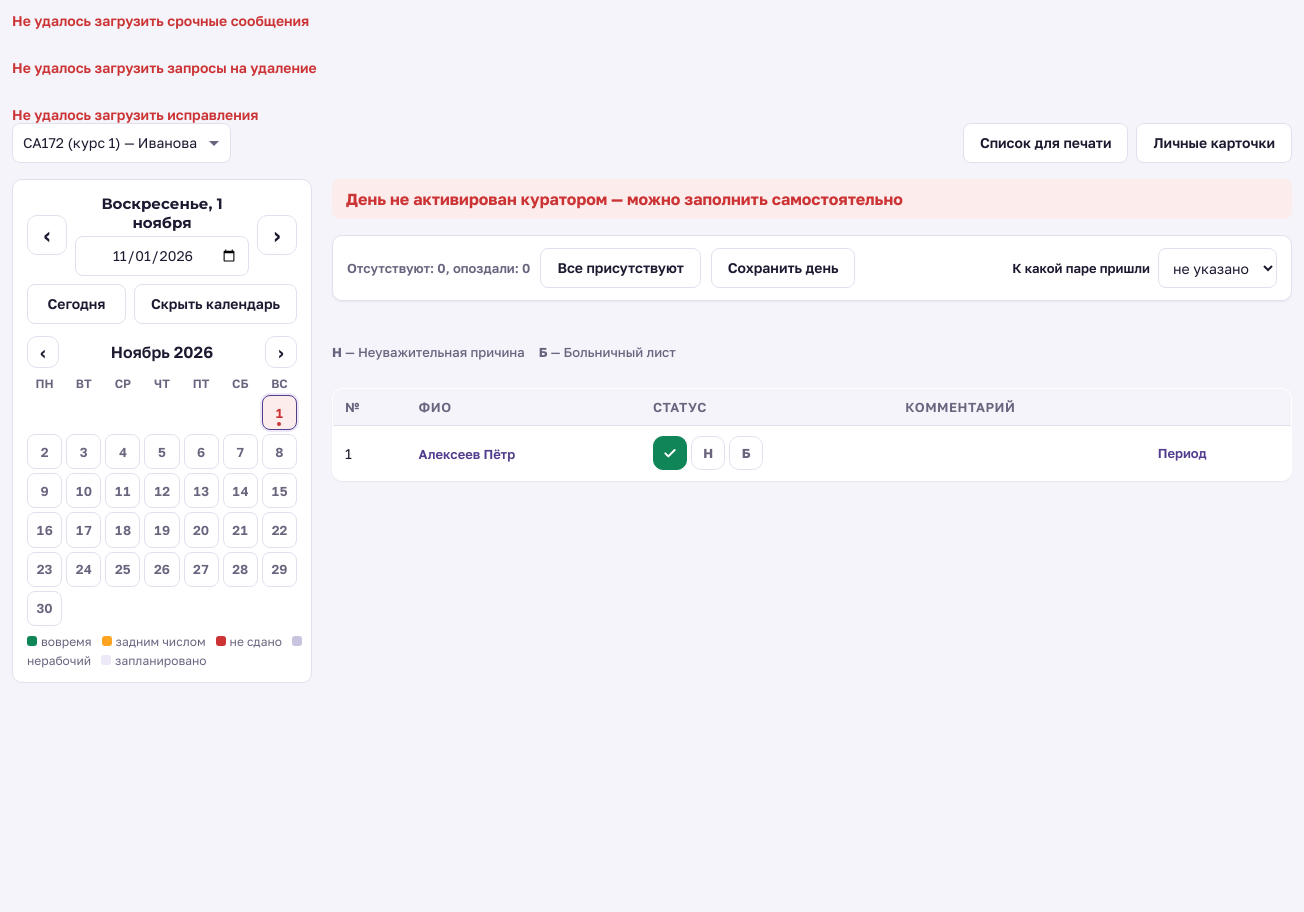
Test: GroupJournalTab — журнал администрации › сохранение дня уходит в тот же эндпоинт, ошибка сервера показывается
This screenshot has width=1304, height=912.
Check: the link "Алексеев Пётр" is shown, box left=415, top=444, right=519, bottom=464
Click the button "Н": (708, 453) left=691, top=436, right=725, bottom=470
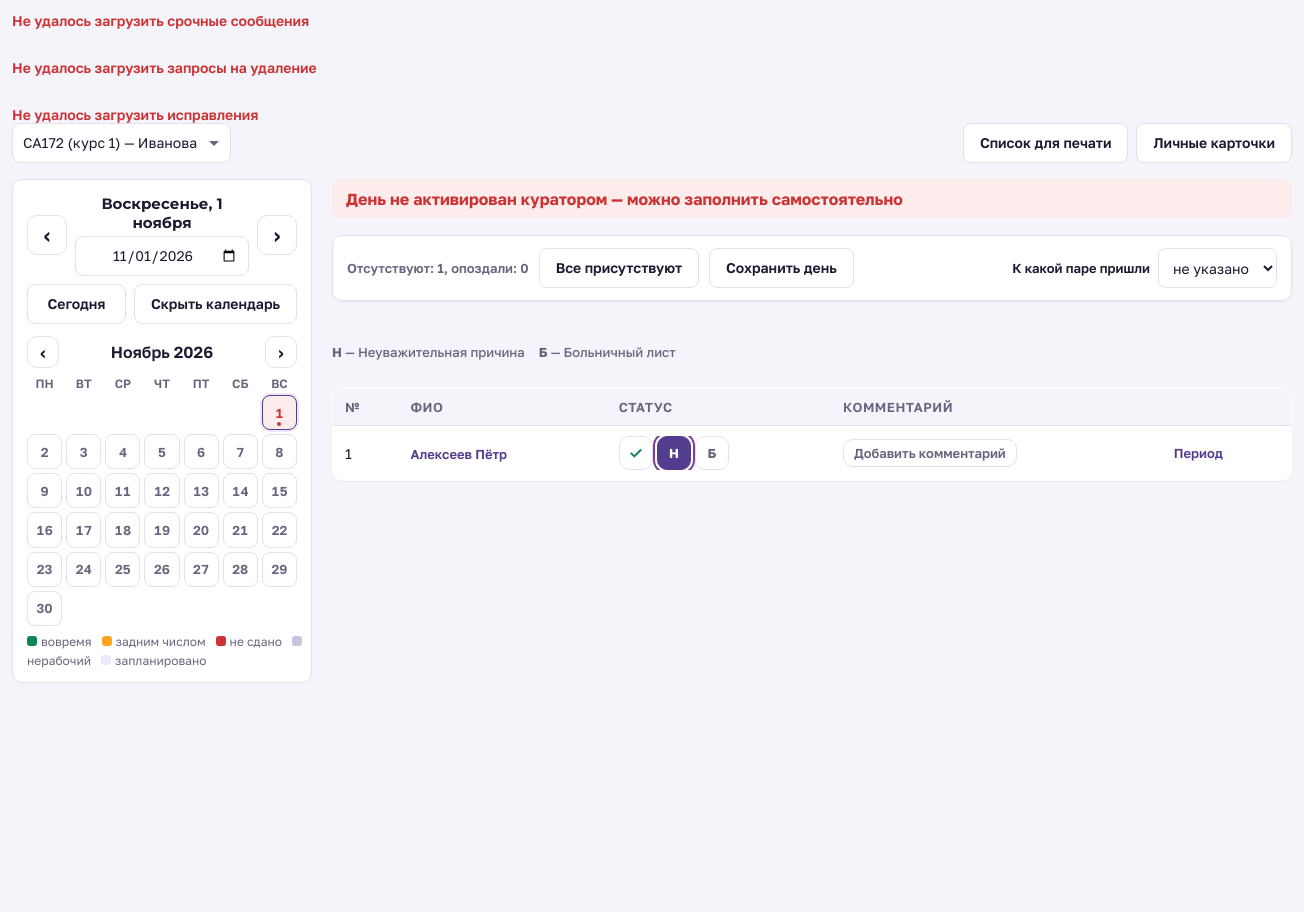
Click the button "Сохранить день": (781, 268) left=709, top=248, right=854, bottom=288
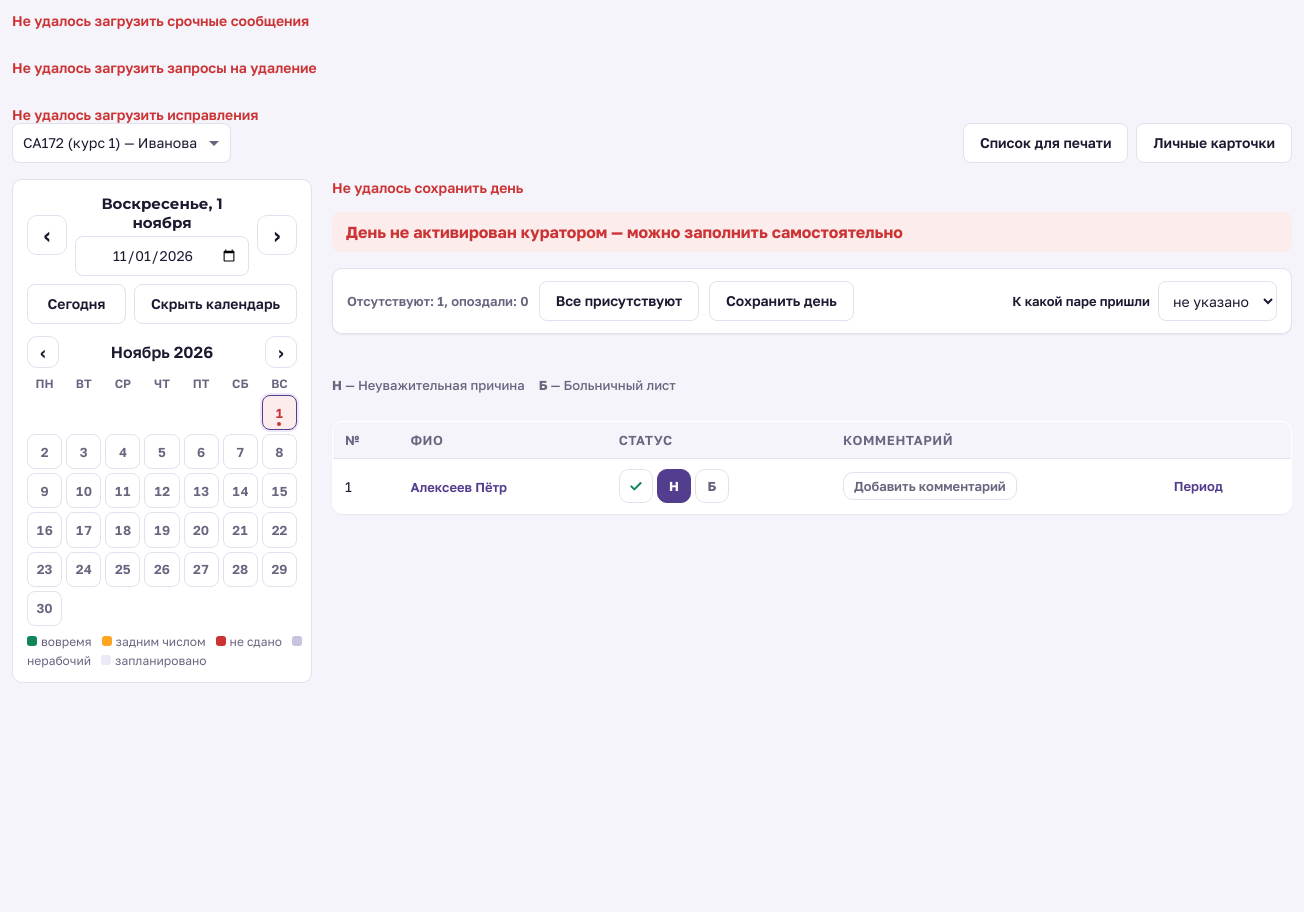
Check: the text "Не удалось сохранить день" is shown, box left=332, top=179, right=523, bottom=196
Click the button "Сохранить день": (781, 301) left=709, top=281, right=854, bottom=321
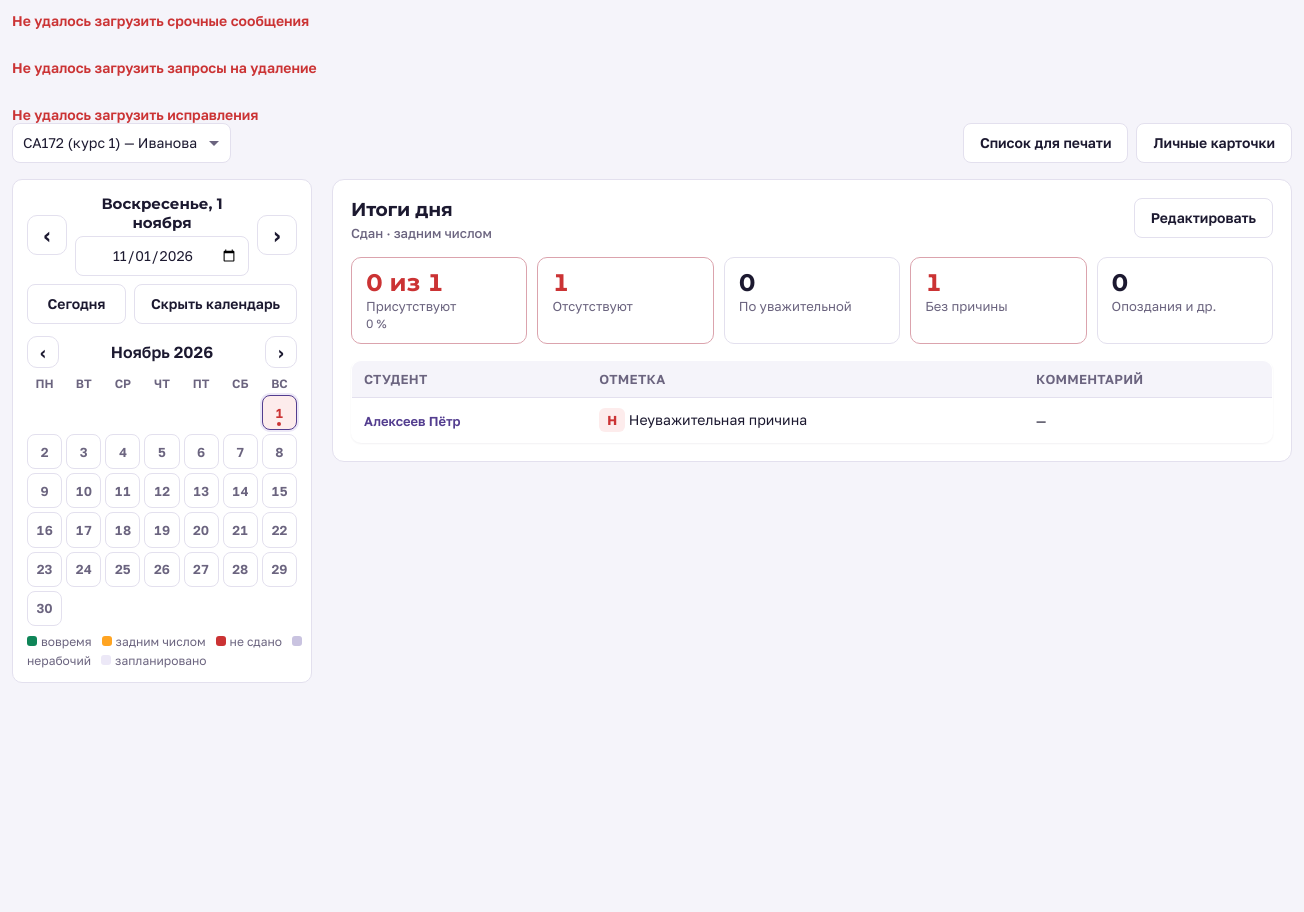
Check: the text "Сдан · задним числом" is shown, box left=351, top=225, right=492, bottom=241
